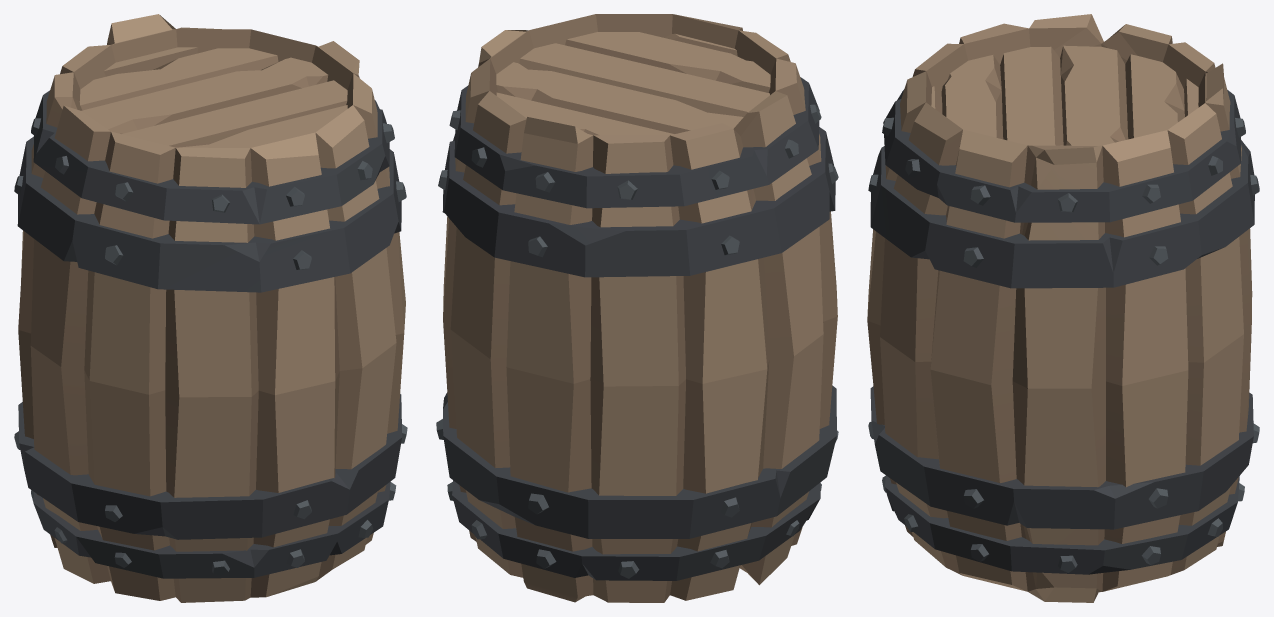
The model's file is SM_Gen_Prop_Barrel_Wood_01.obj.
3 views of the same model, side by side, from view 1: azimuth 30°, elevation 25°; view 2: azimuth 150°, elevation 25°; view 3: azimuth 270°, elevation 25° (orthographic). The views are drawn at different scales.
Parts seen in each view (by area): view 1: SM_Gen_Prop_Barrel_Wood_01_0; view 2: SM_Gen_Prop_Barrel_Wood_01_0; view 3: SM_Gen_Prop_Barrel_Wood_01_0.
Part boxes in pixels (bbox=[...]): SM_Gen_Prop_Barrel_Wood_01_0: bbox=[14, 14, 407, 602]; SM_Gen_Prop_Barrel_Wood_01_0: bbox=[436, 14, 838, 602]; SM_Gen_Prop_Barrel_Wood_01_0: bbox=[867, 14, 1259, 602].
Bounding box in the file's own units: 0.7126 × 0.9591 × 0.732.
Materials: 1 (1 with a texture image).
